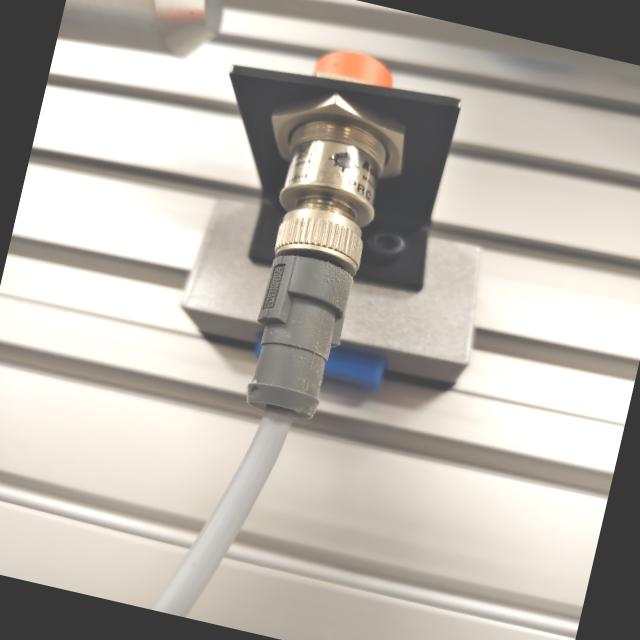inductive sensor: (140, 9, 548, 459)
